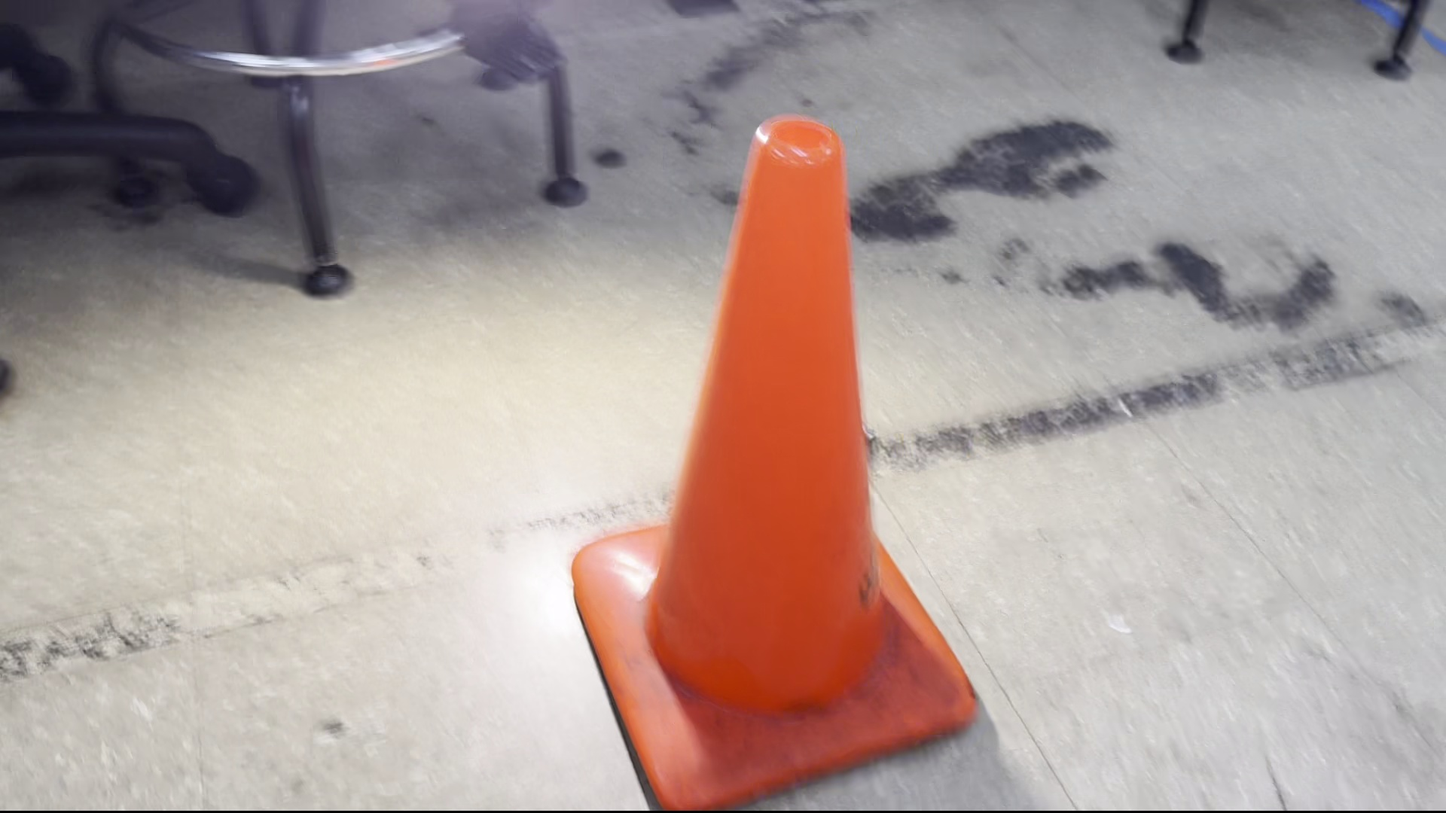traffic_cone: (570, 112, 980, 810)
